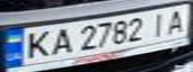2: (124, 14, 151, 43), (75, 21, 100, 52)
7: (93, 19, 115, 48)
8: (112, 17, 133, 46)
A: (160, 6, 193, 36), (45, 25, 75, 56)
I: (145, 9, 172, 38)
K: (18, 28, 54, 61)
